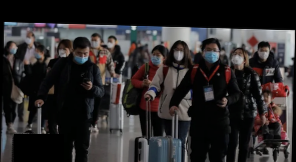with_mask: (203, 45, 220, 64), (229, 50, 244, 66), (72, 50, 89, 64), (149, 50, 161, 65), (172, 46, 184, 61), (57, 45, 68, 57), (257, 48, 269, 59), (89, 36, 99, 49), (23, 34, 32, 44), (32, 49, 41, 59), (9, 43, 17, 54), (106, 38, 114, 48)
without_mask: (261, 93, 271, 105)
